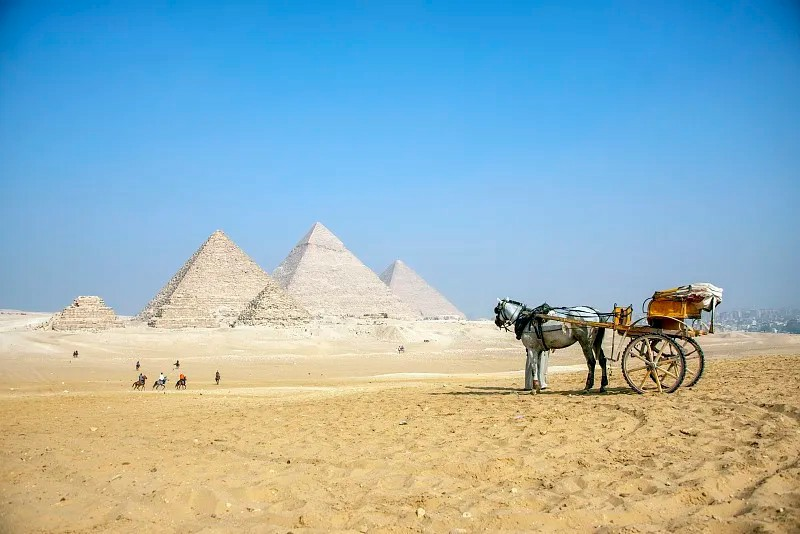Pyramid: (271, 222, 426, 320), (137, 229, 271, 325), (380, 258, 467, 320), (236, 284, 323, 326), (43, 295, 128, 330), (146, 289, 224, 326)
